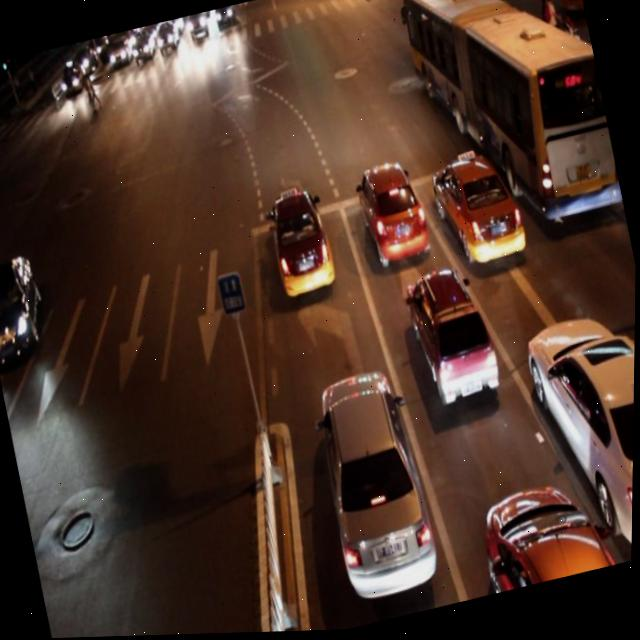car: (306, 363, 445, 606), (517, 301, 636, 580), (475, 468, 628, 597), (398, 263, 501, 412), (428, 148, 528, 277), (350, 156, 434, 272), (261, 183, 340, 305), (0, 250, 50, 363)
van: (391, 0, 626, 252)
